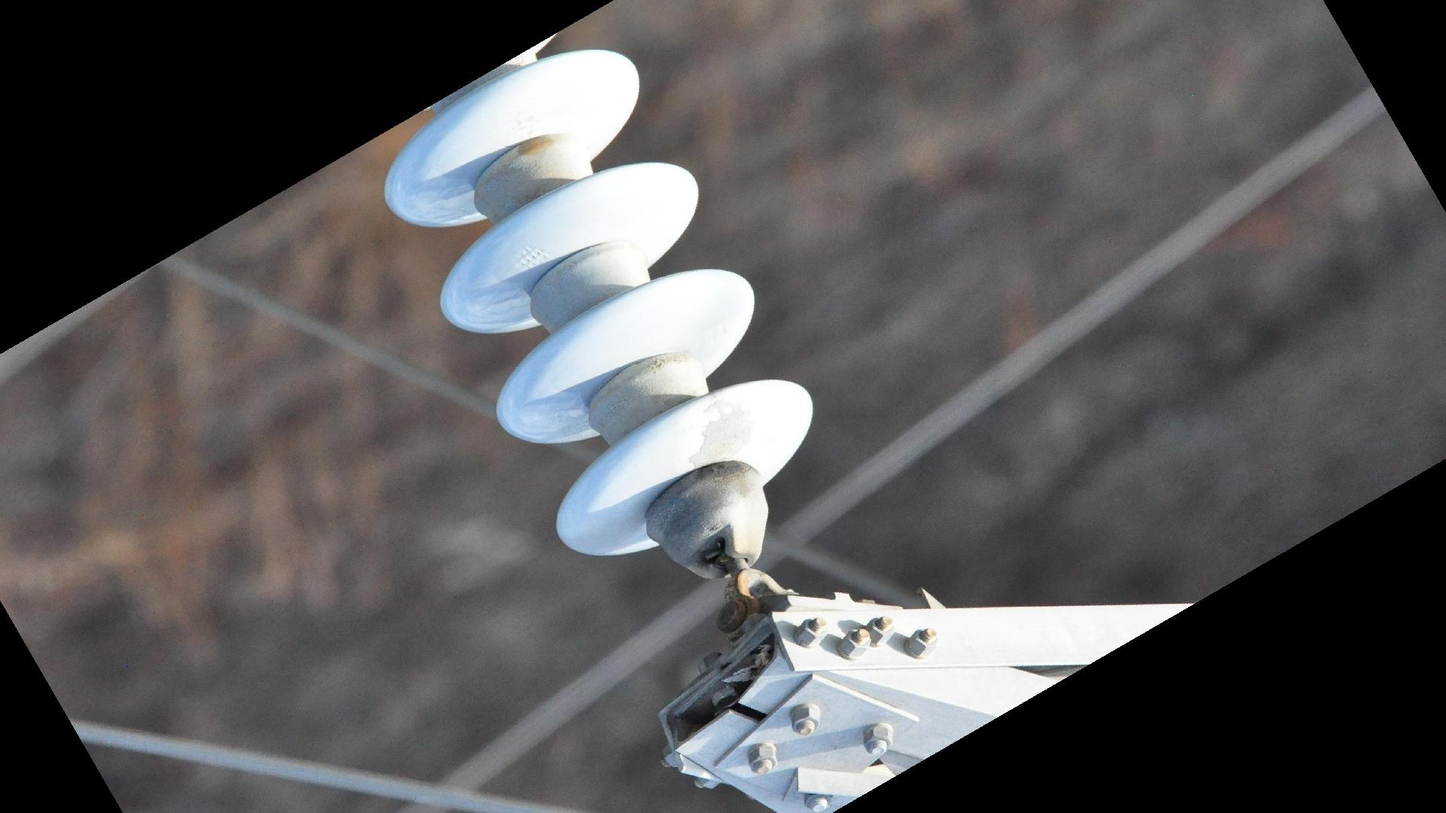insulator: (374, 40, 823, 565)
insulator_flashover: (687, 406, 756, 470)
